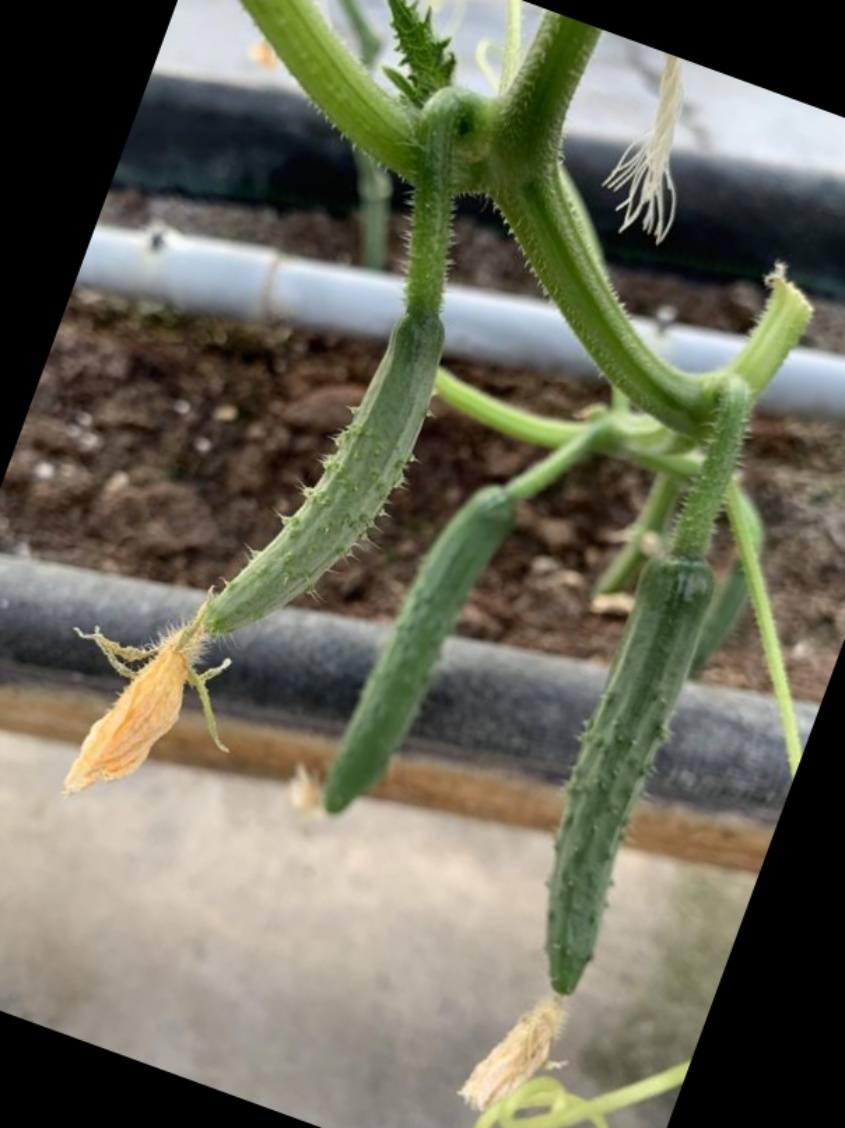growth: (313, 481, 521, 816)
